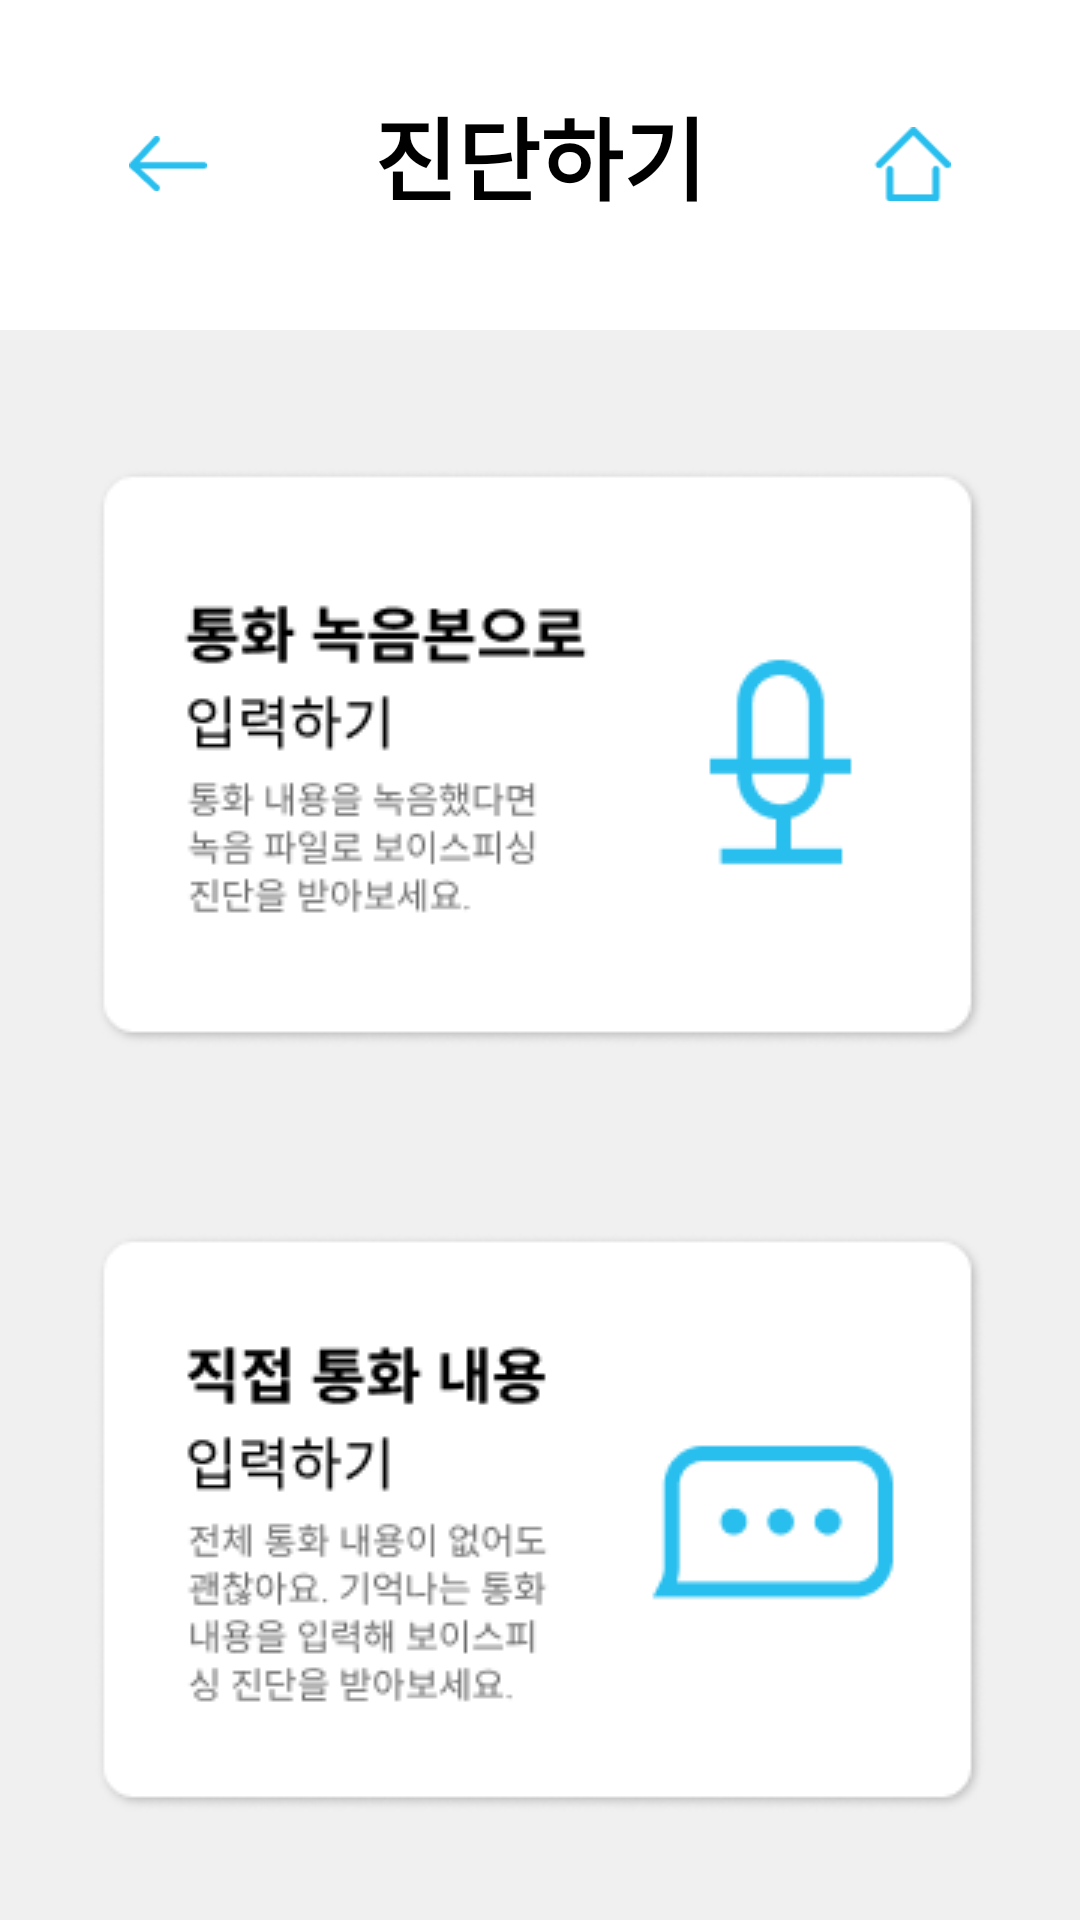

Point at icon controls on the screen. Image size 1080 x 1920, points as [x,y].
backbtn: [168,163]
homebtn: [912,164]
